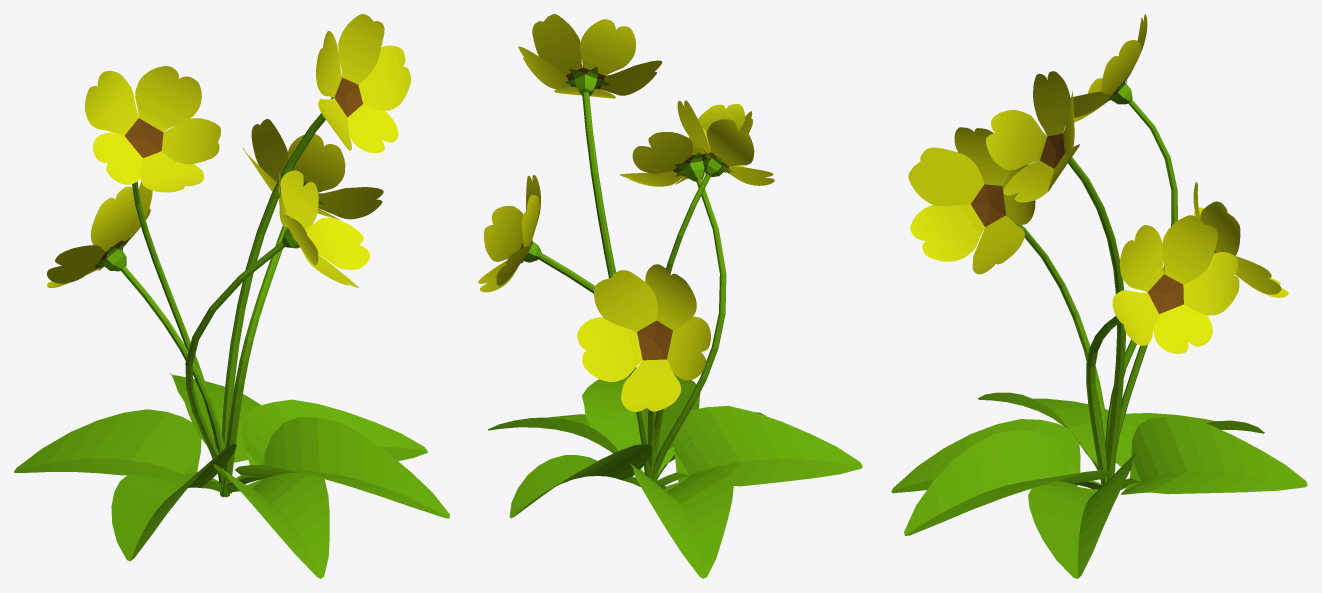
Rendered from GeleBloem_02(1).fbx.
3 views of the same model, side by side, from view 1: azimuth 30°, elevation 25°; view 2: azimuth 150°, elevation 25°; view 3: azimuth 270°, elevation 25° (orthographic). The views are drawn at different scales.
Parts seen in each view (by area): view 1: PrimroseP:Mesh; view 2: PrimroseP:Mesh; view 3: PrimroseP:Mesh.
Part boxes in pixels (bbox=[...]): PrimroseP:Mesh: bbox=[14, 14, 449, 578]; PrimroseP:Mesh: bbox=[478, 14, 862, 578]; PrimroseP:Mesh: bbox=[891, 14, 1307, 578].
Bounding box in the file's own units: 0.0056 × 0.00717 × 0.00582.
